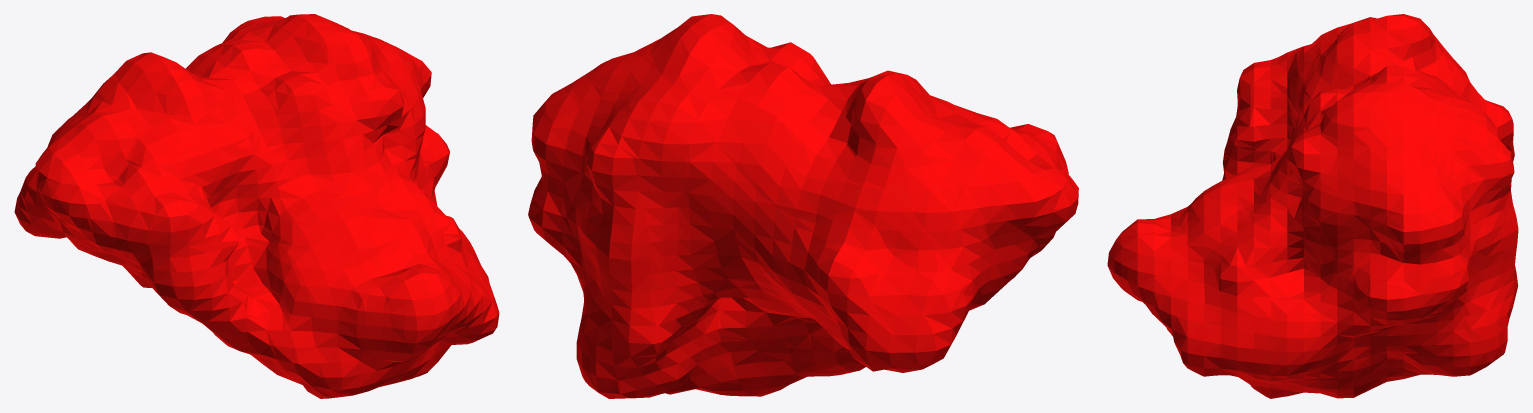
Rendered from ilvI_coarse.dae.
3 views of the same model, side by side, from view 1: azimuth 30°, elevation 25°; view 2: azimuth 150°, elevation 25°; view 3: azimuth 270°, elevation 25° (orthographic). The views are drawn at different scales.
Parts seen in each view (by area): view 1: ilvI; view 2: ilvI; view 3: ilvI.
Part boxes in pixels (x1,y1,x2,y2): ilvI: [14, 14, 499, 398]; ilvI: [528, 14, 1078, 398]; ilvI: [1107, 14, 1518, 398].
Size of the model in its own units: 81.31 by 59.43 by 71.21.
